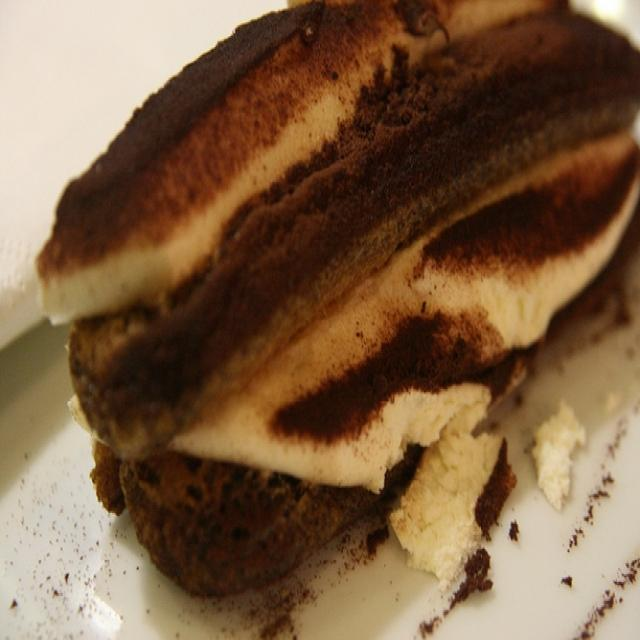蛋糕甜品: (9, 17, 624, 629)
